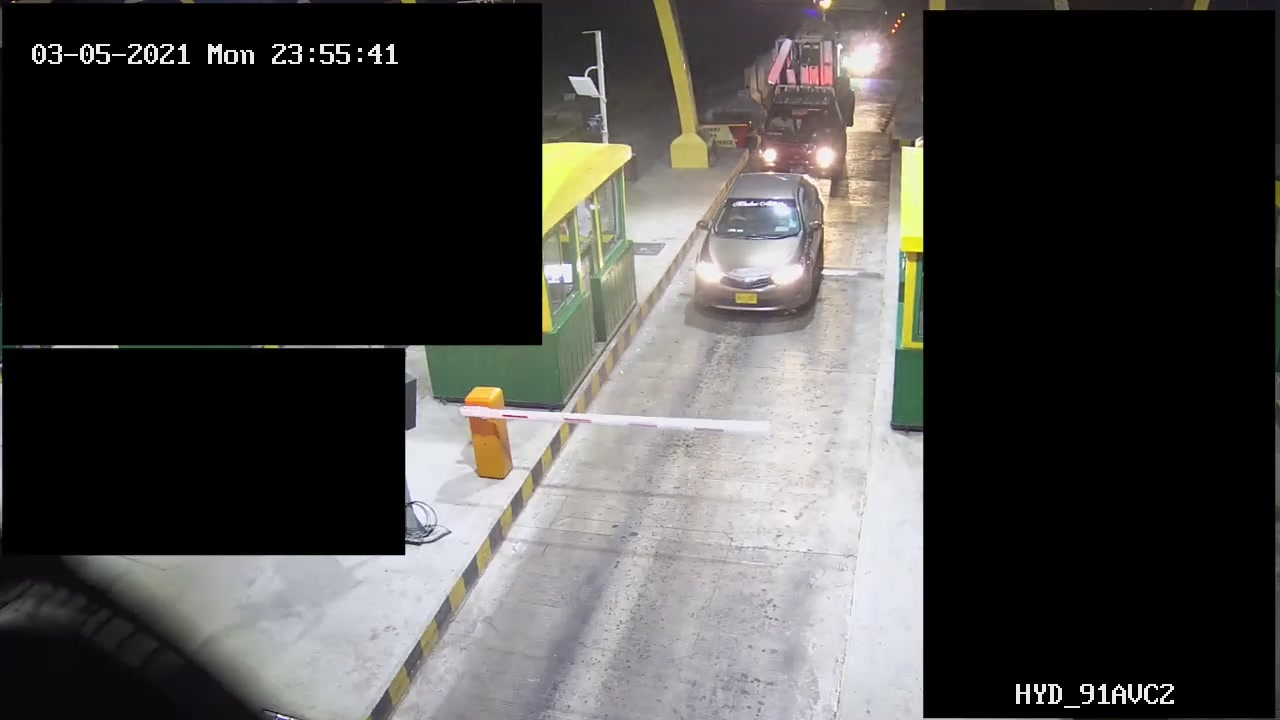F1: (685, 167, 823, 333)
